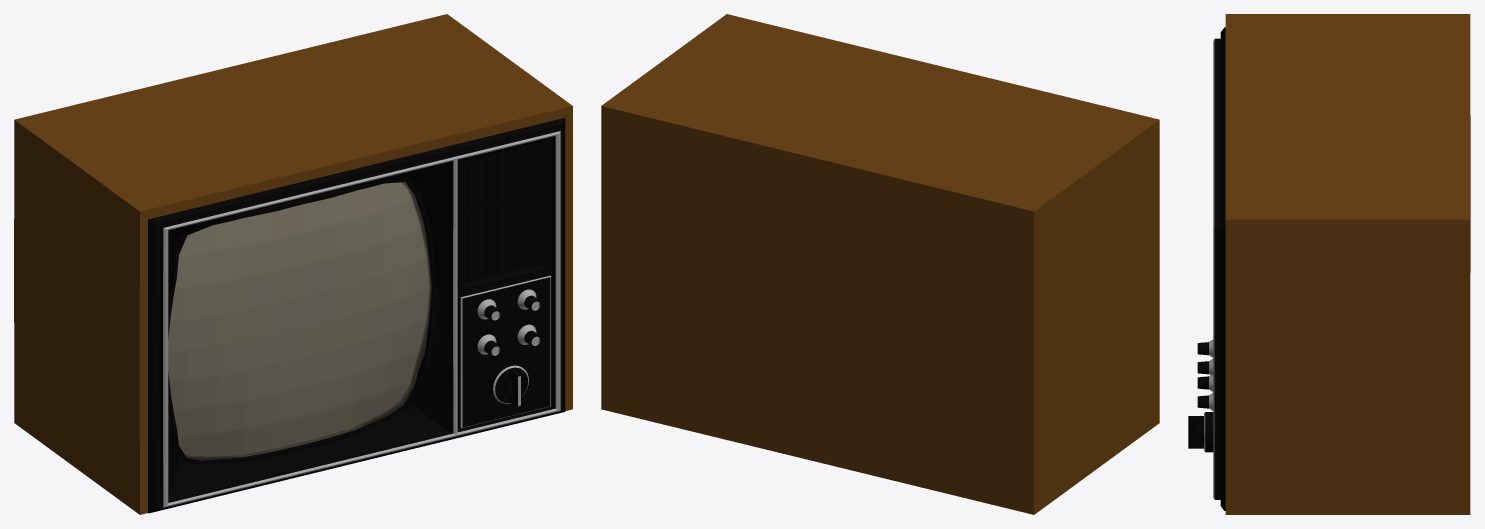
3 renders of one model, left to right at view 1: azimuth 30°, elevation 25°; view 2: azimuth 150°, elevation 25°; view 3: azimuth 270°, elevation 25°, orthographic. The views are drawn at different scales.
Parts seen in each view (by area): view 1: TV; view 2: TV; view 3: TV.
Boxes of the visible parts, x1,y1,x2,y2 form: TV: (14,14,572,514); TV: (601,14,1159,514); TV: (1188,14,1470,514).
Bounding box in the file's own units: 187 × 125 × 108.
